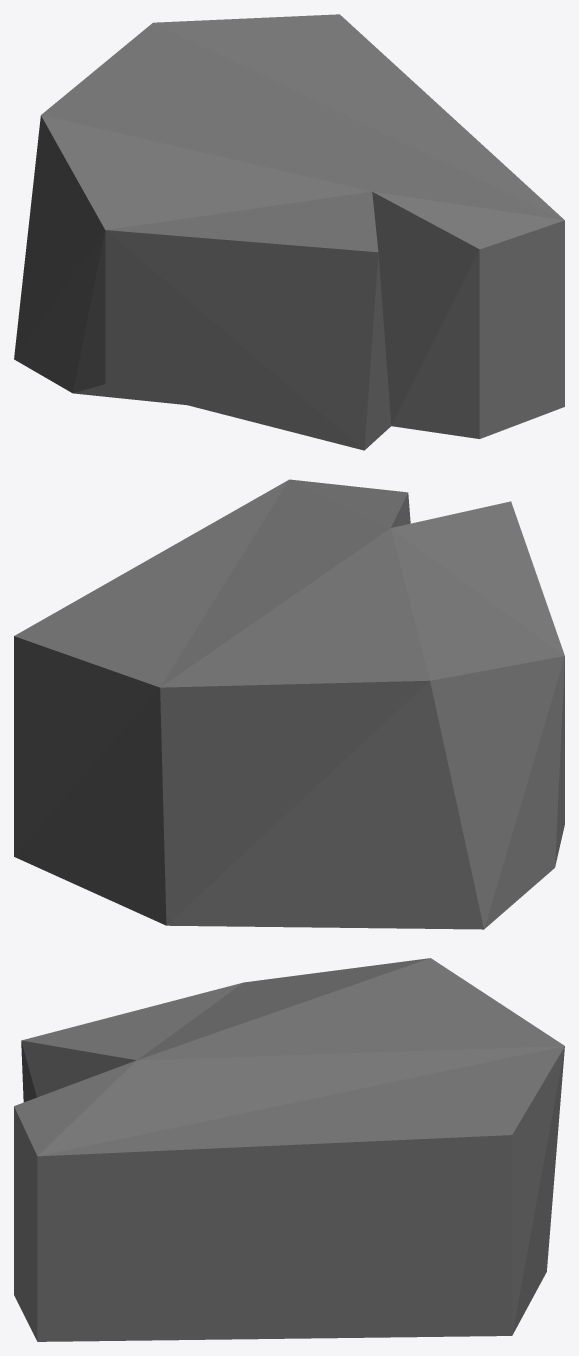
Rendered from Rock_03.fbx.
The picture shows the model from 3 angles, top to bottom: view 1: azimuth 30°, elevation 25°; view 2: azimuth 150°, elevation 25°; view 3: azimuth 270°, elevation 25°; orthographic projection. The views are drawn at different scales.
Parts seen in each view (by area): view 1: Rock_03; view 2: Rock_03; view 3: Rock_03.
Part boxes in pixels (x1,y1,x2,y2): Rock_03: (14,14,564,450); Rock_03: (14,479,564,929); Rock_03: (14,958,564,1341).
Bounding box in the file's own units: 0.9731 × 0.5529 × 1.22.
